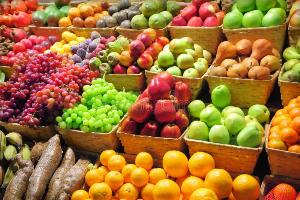apple: (176, 86, 272, 144), (127, 73, 187, 142), (152, 34, 215, 78), (121, 28, 173, 76), (228, 1, 290, 36), (168, 4, 236, 32), (123, 0, 179, 34)
grape: (0, 52, 90, 128), (59, 76, 145, 127)
orange: (75, 141, 262, 200), (270, 86, 300, 154)
pear: (208, 36, 282, 82), (274, 34, 300, 84)
pomegranate: (1, 0, 38, 40)
